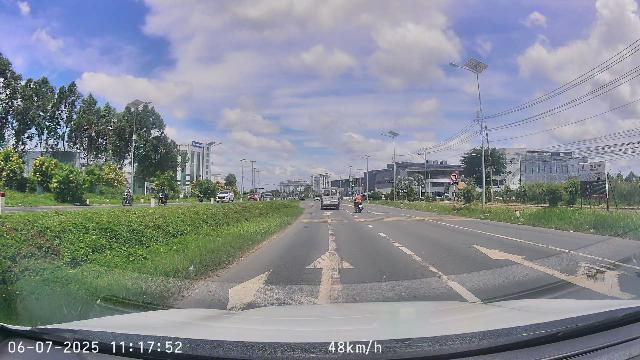123a-cam-re-trai: (450, 172, 458, 181)
